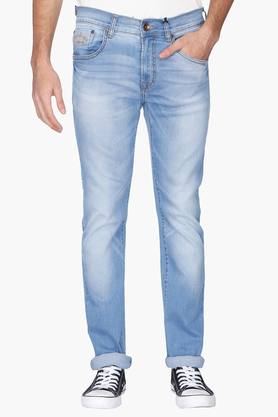jeans: (61, 2, 225, 380)
